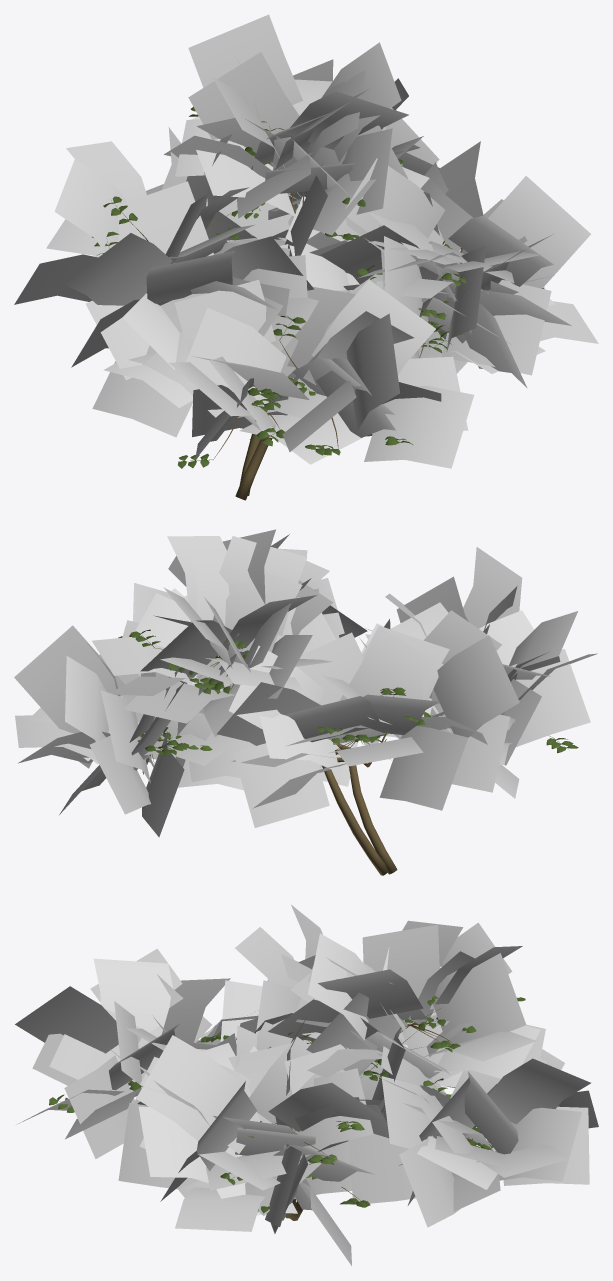
The model's file is Lentisque_Incline_LOD0.fbx.
The picture shows the model from 3 angles, top to bottom: view 1: azimuth 30°, elevation 25°; view 2: azimuth 150°, elevation 25°; view 3: azimuth 270°, elevation 25°; orthographic projection. The views are drawn at different scales.
Visible parts, largest first — view 1: Lentisque_Incline; view 2: Lentisque_Incline; view 3: Lentisque_Incline.
Part boxes in pixels (x1,y1,x2,y2): Lentisque_Incline: (14, 14, 598, 500); Lentisque_Incline: (14, 529, 597, 875); Lentisque_Incline: (15, 904, 598, 1265).
Bounding box in the file's own units: 287 × 214 × 341.
